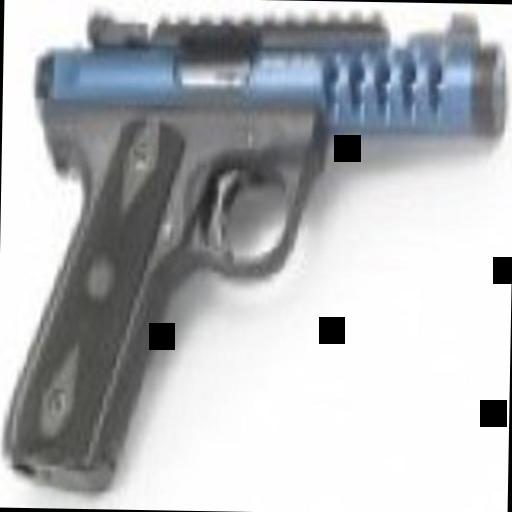Handgun: (0, 6, 505, 493)
